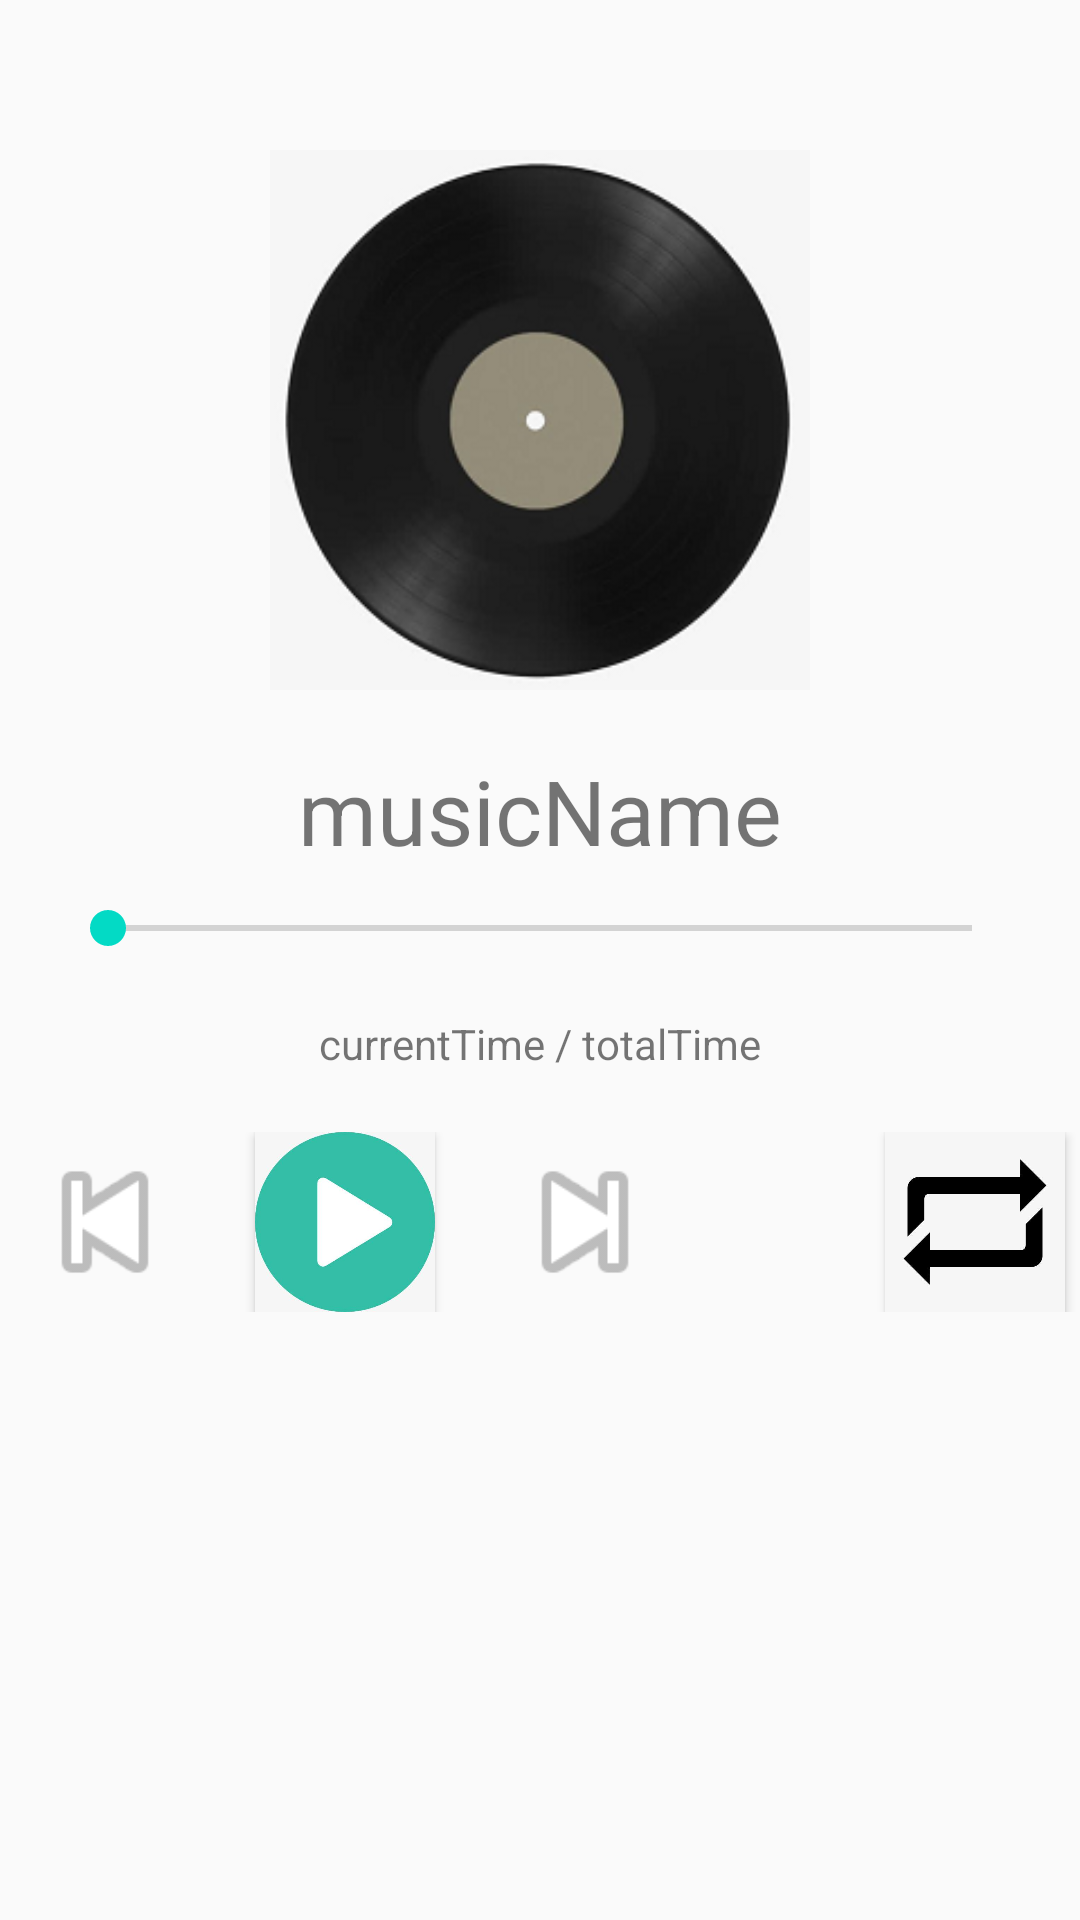

Icon click points for this 1080px x 1920px phone screenshot, format (x=x, y=y):
loop: (x=975, y=1222)
next: (x=585, y=1222)
play: (x=345, y=1222)
previous: (x=105, y=1222)
